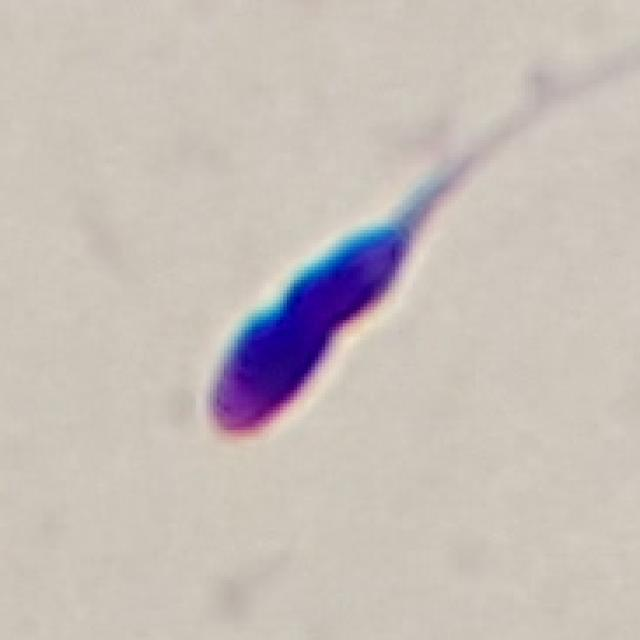abnormal sperm: (195, 86, 555, 446)
